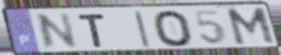5: (192, 10, 229, 47)
I: (132, 10, 153, 50)
M: (224, 6, 278, 47)
N: (35, 12, 80, 52)
O: (151, 9, 196, 48)
T: (75, 13, 108, 49)
